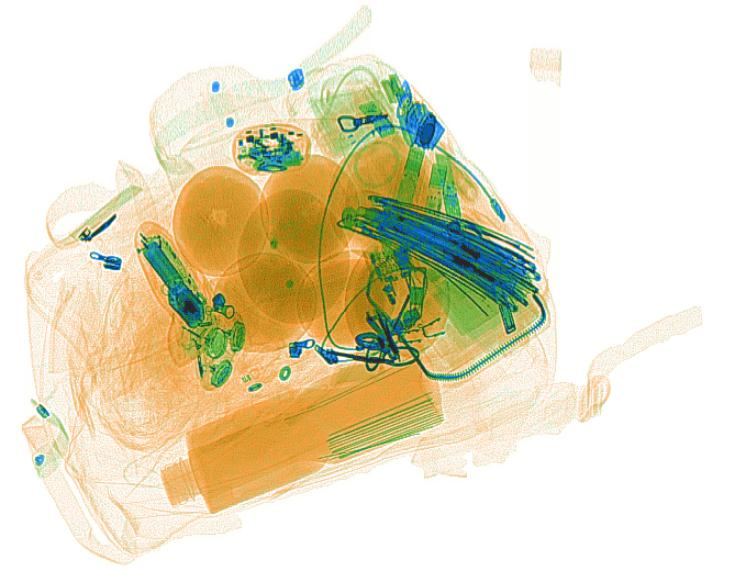USBFlashDisk: (392, 76, 446, 151), (430, 153, 464, 224), (391, 144, 427, 211), (421, 160, 448, 221), (356, 99, 395, 137)
battery: (138, 239, 187, 291)
